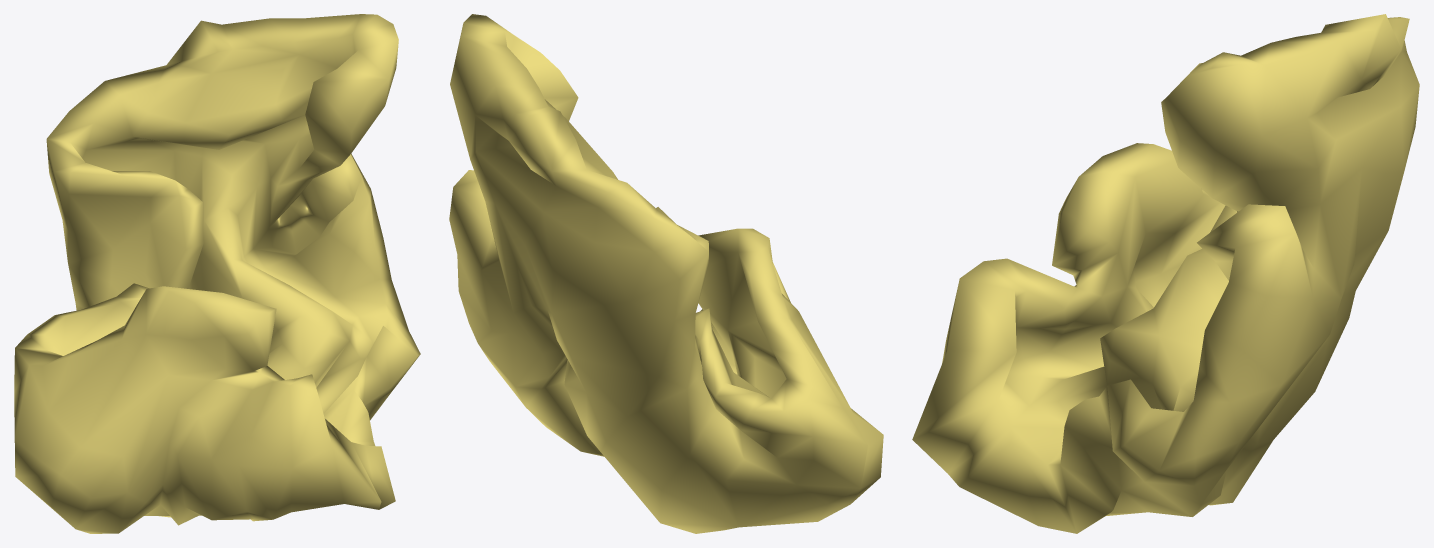
File: occipital-pole-l.glb
3 views of the same model, side by side, from view 1: azimuth 30°, elevation 25°; view 2: azimuth 150°, elevation 25°; view 3: azimuth 270°, elevation 25° (orthographic). The views are drawn at different scales.
Parts seen in each view (by area): view 1: Occipital pole.l; view 2: Occipital pole.l; view 3: Occipital pole.l.
Part boxes in pixels (<box>): Occipital pole.l: <box>14,14,420,533</box>; Occipital pole.l: <box>449,14,883,533</box>; Occipital pole.l: <box>912,14,1419,533</box>.
Bounding box in the file's own units: 0.0316 × 0.0345 × 0.0284.
